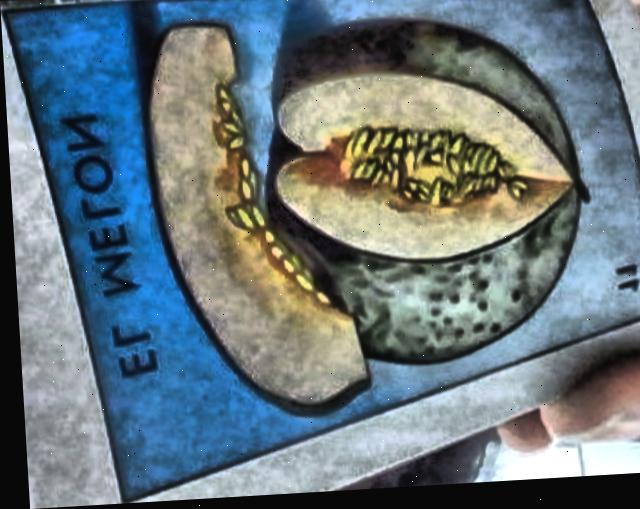El Melon: (2, 0, 640, 502)
